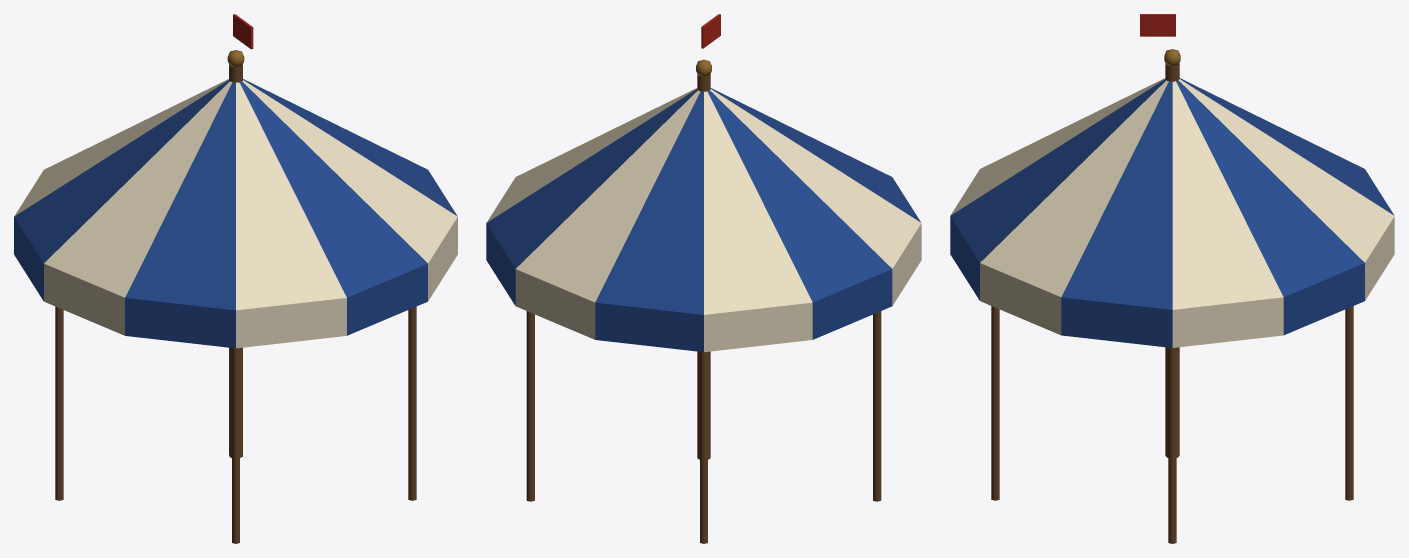
File: mv_pavilion.glb
The picture shows the model from 3 angles, left to right: view 1: azimuth 30°, elevation 25°; view 2: azimuth 150°, elevation 25°; view 3: azimuth 270°, elevation 25°; orthographic projection. The views are drawn at different scales.
Visible parts, largest first — view 1: mv_pavilion; view 2: mv_pavilion; view 3: mv_pavilion.
Part boxes in pixels (box(x1,y1,x2,y2)): mv_pavilion: box(14, 14, 457, 543); mv_pavilion: box(486, 14, 921, 543); mv_pavilion: box(950, 14, 1394, 543).
Size of the model in its own units: 3.7 by 4.05 by 3.7.
